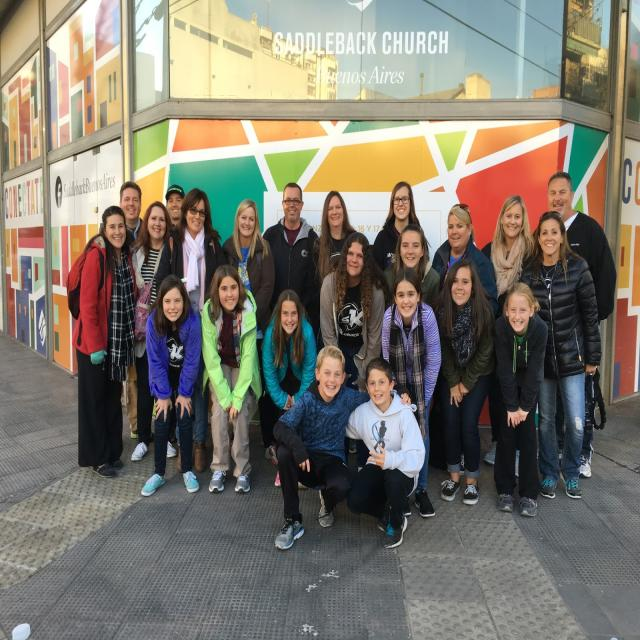body: (532, 169, 618, 482), (519, 210, 602, 500), (273, 343, 371, 552), (155, 186, 225, 474), (70, 204, 138, 480), (427, 255, 499, 507), (478, 192, 541, 478), (378, 262, 443, 525), (344, 356, 426, 550), (220, 199, 278, 466), (198, 264, 264, 498), (140, 273, 203, 498), (492, 281, 550, 518), (130, 200, 178, 462), (317, 230, 388, 395), (262, 287, 318, 491), (260, 181, 322, 333), (306, 189, 358, 346), (118, 180, 145, 440), (432, 202, 497, 300), (382, 222, 442, 315), (374, 180, 431, 270), (165, 184, 186, 227)
